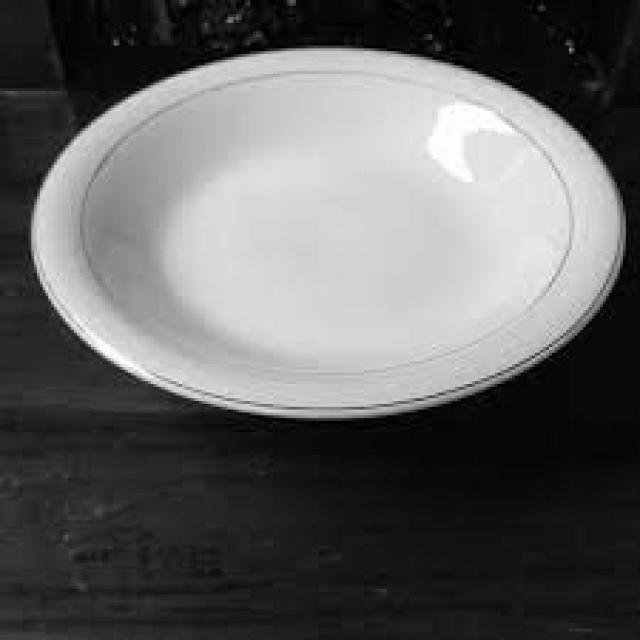dish: (22, 21, 638, 436)
